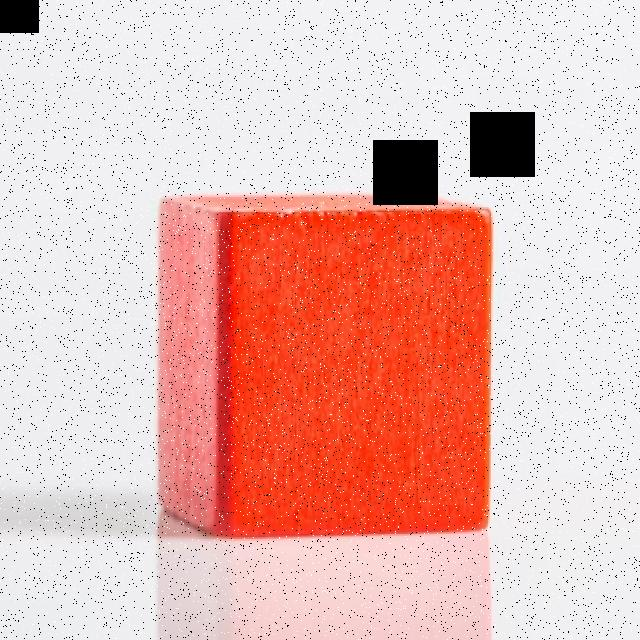red cube: (156, 190, 493, 540)
